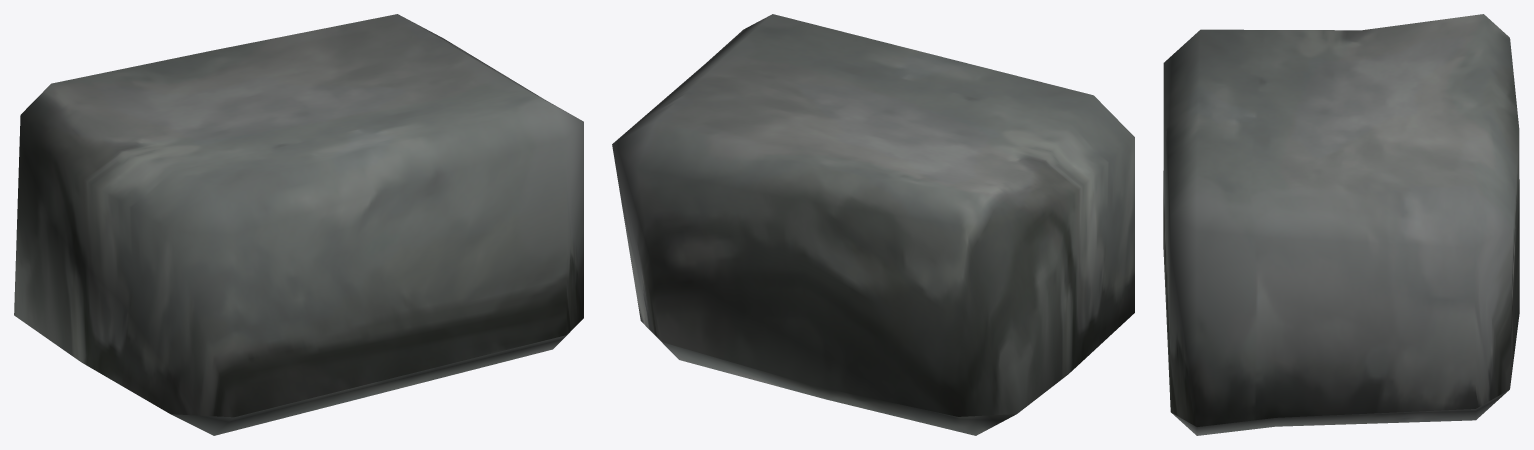
The model's file is sewer_brick004.FBX.
The picture shows the model from 3 angles, left to right: view 1: azimuth 30°, elevation 25°; view 2: azimuth 150°, elevation 25°; view 3: azimuth 270°, elevation 25°; orthographic projection. The views are drawn at different scales.
Visible parts, largest first — view 1: sewer_brick004; view 2: sewer_brick004; view 3: sewer_brick004.
Boxes of the visible parts, x1,y1,x2,y2 form: sewer_brick004: [14, 14, 583, 435]; sewer_brick004: [612, 14, 1134, 435]; sewer_brick004: [1163, 14, 1519, 435].
Bounding box in the file's own units: 163 × 92.57 × 118.
